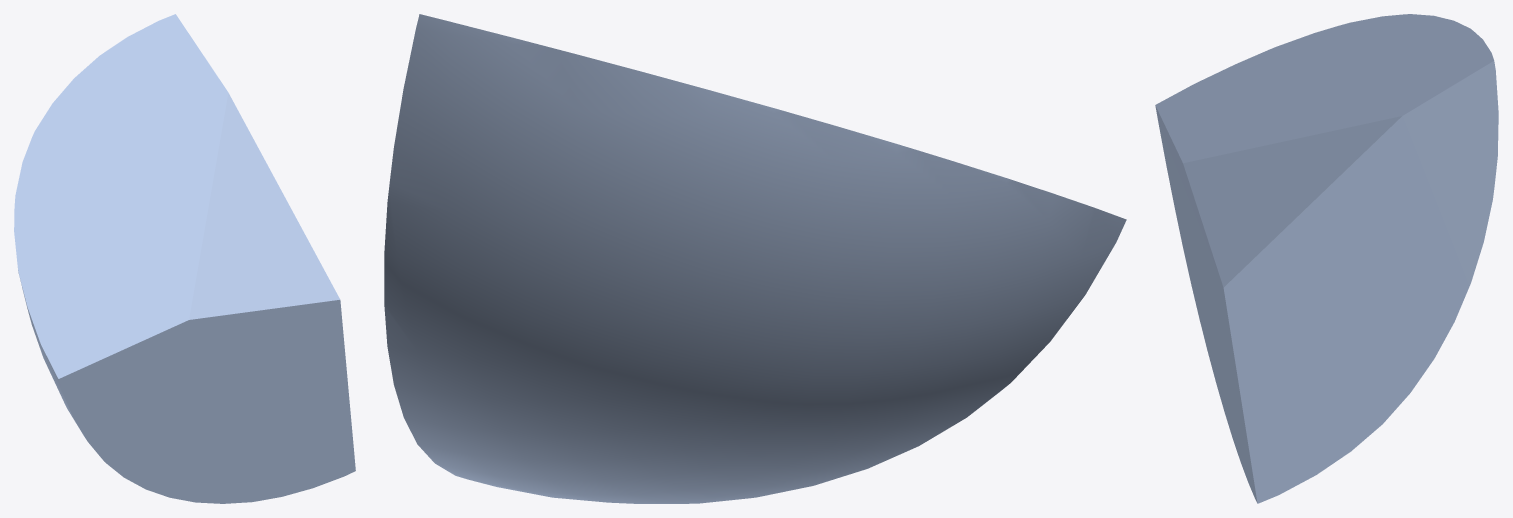
The model's file is Ball2_5.fbx.
3 views of the same model, side by side, from view 1: azimuth 30°, elevation 25°; view 2: azimuth 150°, elevation 25°; view 3: azimuth 270°, elevation 25° (orthographic). The views are drawn at different scales.
Visible parts, largest first — view 1: Cube_cell.070; view 2: Cube_cell.070; view 3: Cube_cell.070.
Part boxes in pixels (x1,y1,x2,y2): Cube_cell.070: [14, 14, 355, 503]; Cube_cell.070: [384, 14, 1126, 503]; Cube_cell.070: [1155, 14, 1498, 503].
Size of the model in its own units: 80.68 by 87.51 by 66.19.
